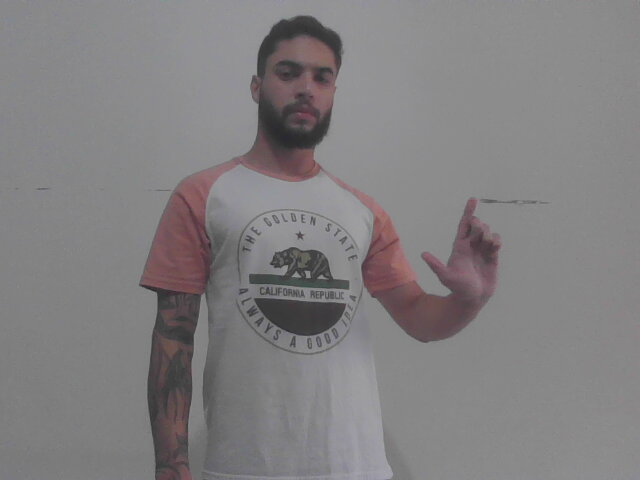l: (413, 193, 503, 310)
